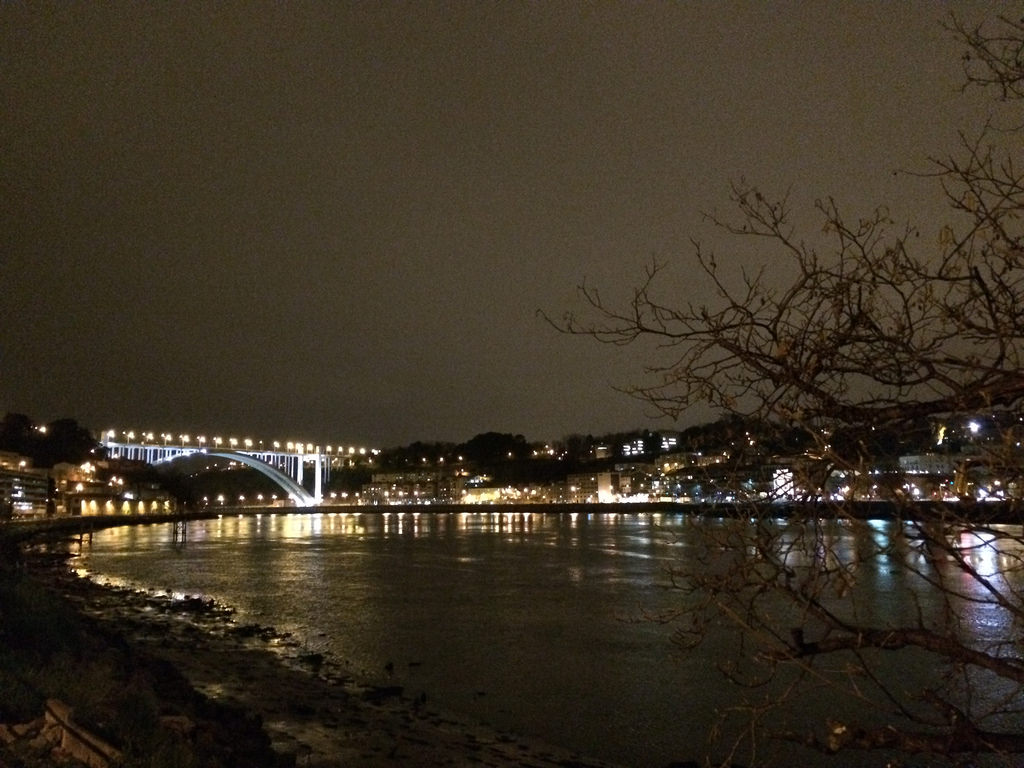arrabida: (82, 435, 371, 513)
